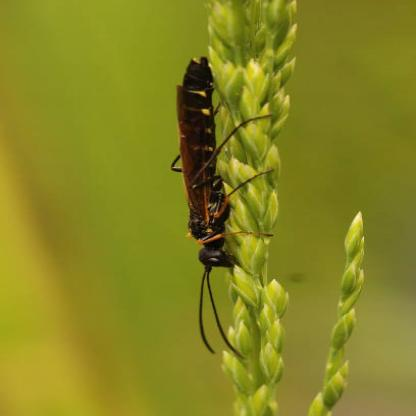sawfly: (160, 51, 287, 365)
